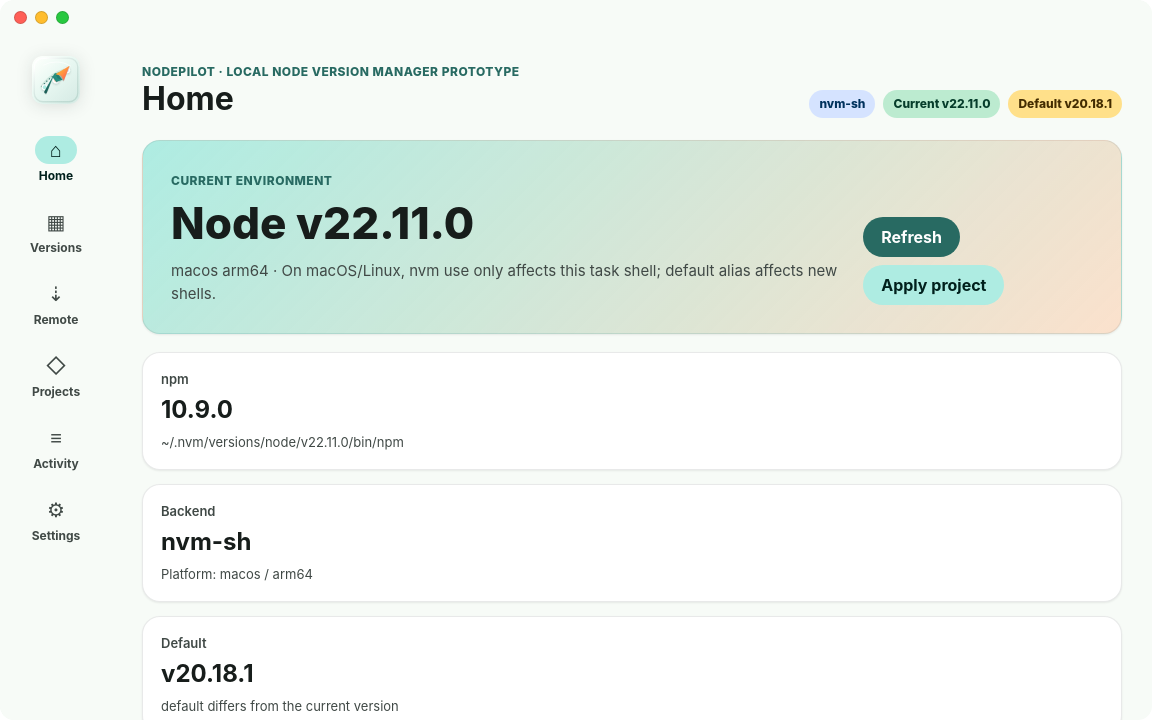
Test case: App › renders damaged and missing version states from the backend snapshot
Expected: the heading "Node v22.11.0" is shown, [171,196,474,250]
Click the button with aria-label "Open Versions".
click(56, 232)  # box [14,200,98,264]
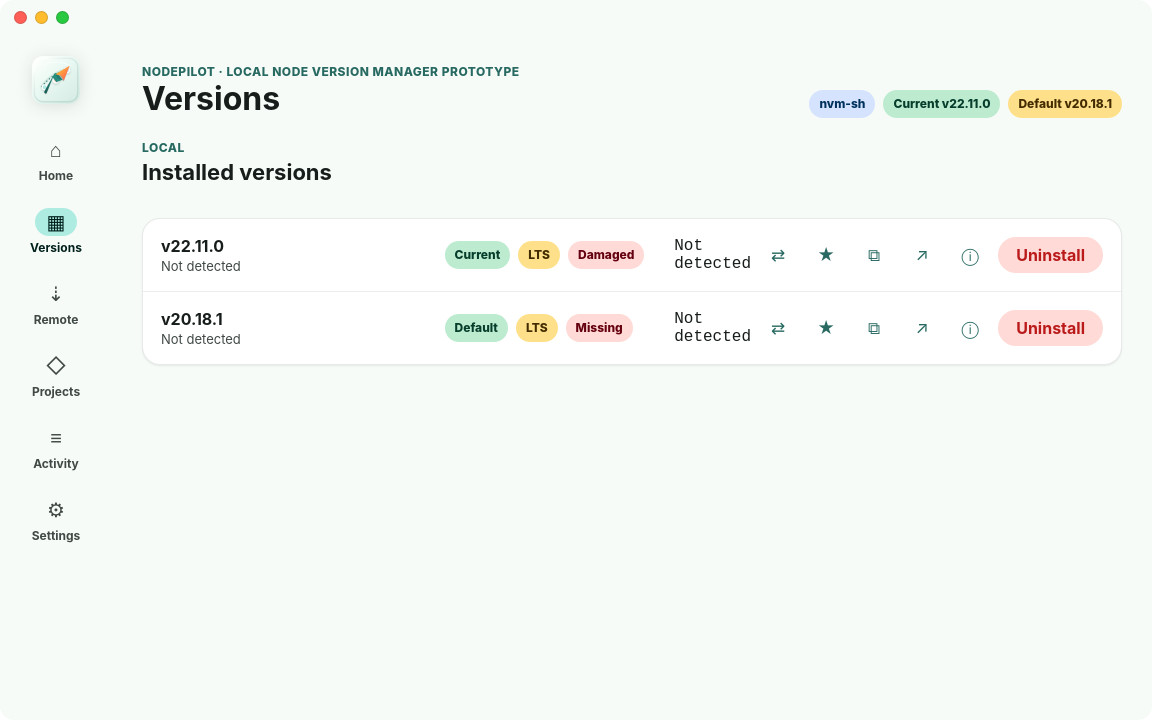
Expected: the heading "v22.11.0" is shown, [161,236,224,256]
Result: the text "Damaged" is shown at [568,241,644,269]
Result: the text "Missing" is shown at [566,314,633,342]
